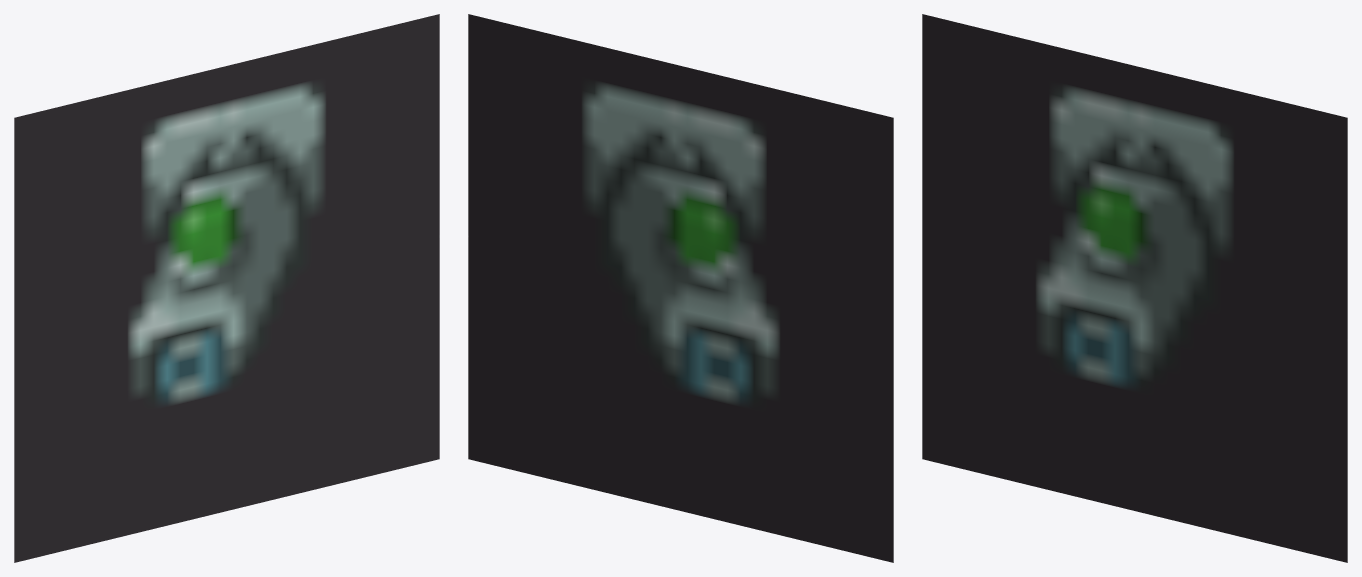
The model's file is CCTV_Camera_01.glb.
3 views of the same model, side by side, from view 1: azimuth 30°, elevation 25°; view 2: azimuth 150°, elevation 25°; view 3: azimuth 330°, elevation 25° (orthographic).
Visible parts, largest first — view 1: pPlane1; view 2: pPlane1; view 3: pPlane1.
Part boxes in pixels (<box>): pPlane1: <box>14,14,439,562</box>; pPlane1: <box>468,14,893,562</box>; pPlane1: <box>922,14,1347,562</box>.
Size of the model in its own units: 1 by 1 by 0.
Materials: 1 (1 with a texture image).
